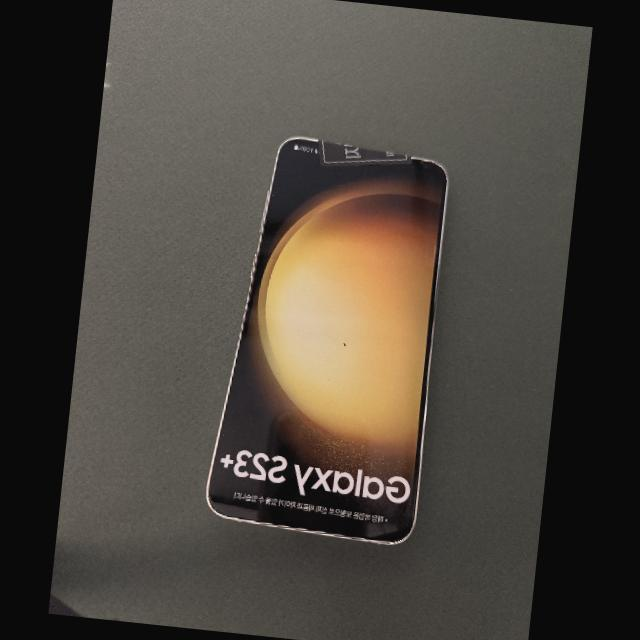phone: (206, 137, 447, 545)
sticker: (318, 138, 411, 167)
